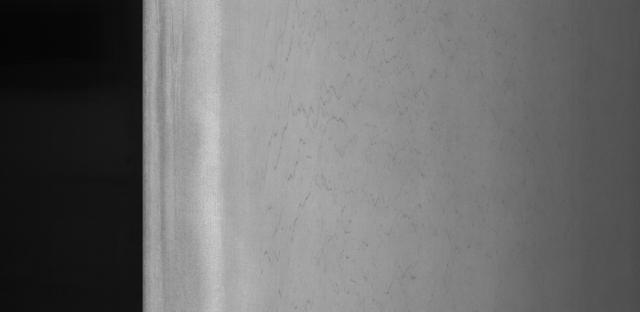silk_spot: (262, 9, 436, 244)
